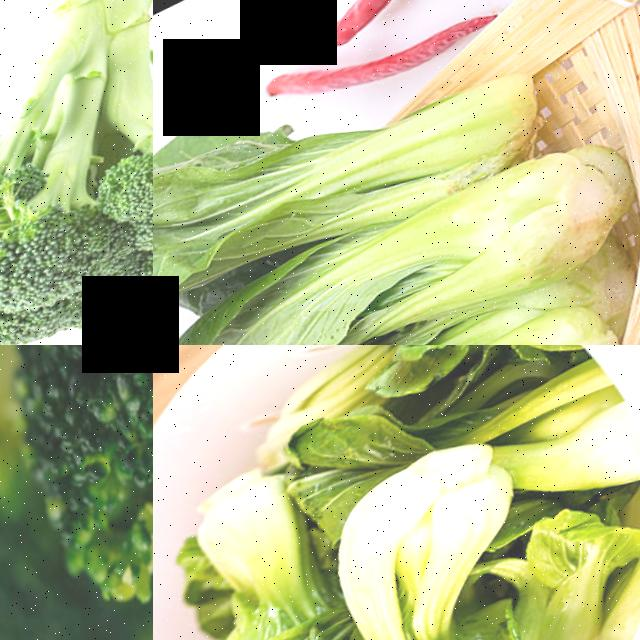bok choy: (153, 59, 533, 345), (153, 138, 640, 345), (306, 401, 611, 640), (153, 451, 353, 640), (499, 352, 640, 533), (315, 345, 480, 415)
broccoli: (0, 0, 153, 345), (0, 345, 153, 640)
